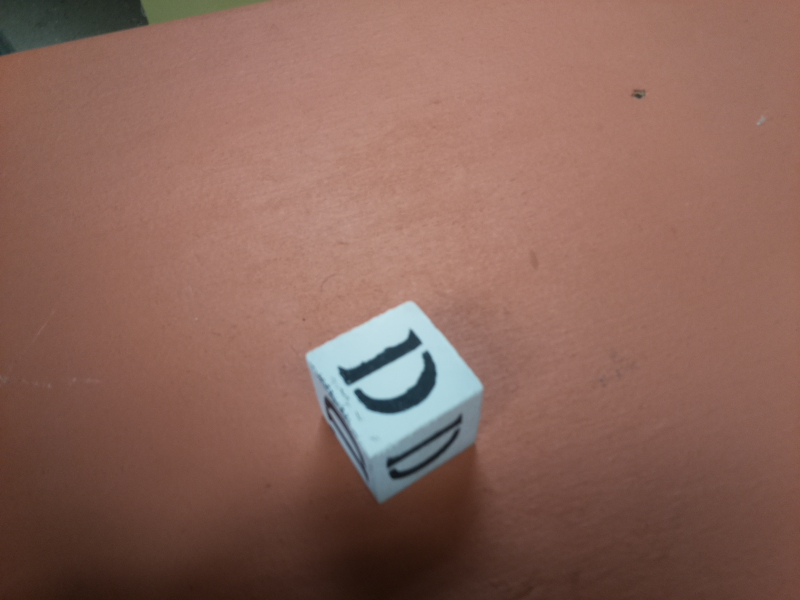blockD: (303, 293, 484, 499)
